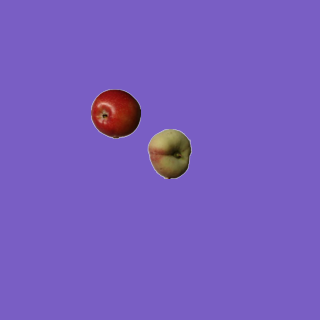Apple Braeburn: (90, 88, 140, 138)
Peach Flat: (144, 128, 194, 178)
